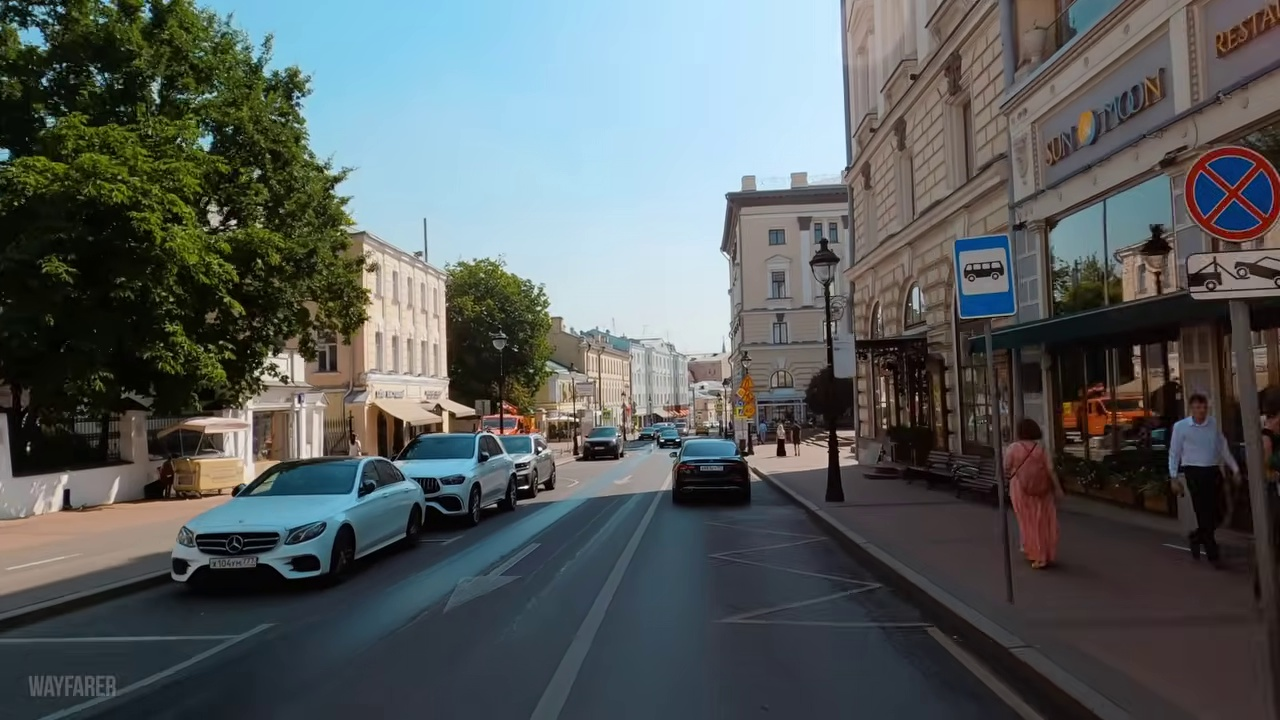apagada: (814, 250, 837, 282)
